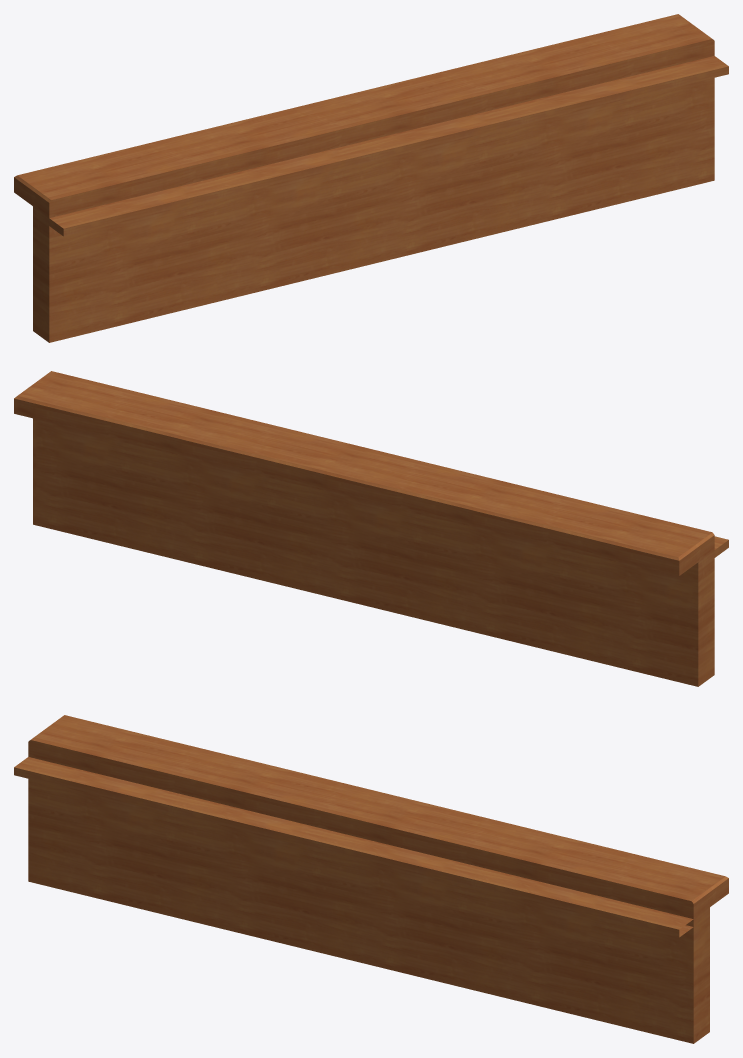
File: Balcao.FBX
The picture shows the model from 3 angles, top to bottom: view 1: azimuth 30°, elevation 25°; view 2: azimuth 150°, elevation 25°; view 3: azimuth 330°, elevation 25°; orthographic projection.
Parts seen in each view (by area): view 1: Balcao; view 2: Balcao; view 3: Balcao.
Part boxes in pixels (x1=…): Balcao: x1=14, y1=14, x2=728, y2=342; Balcao: x1=14, y1=371, x2=728, y2=686; Balcao: x1=14, y1=715, x2=728, y2=1043.
Bounding box in the file's own units: 490 × 100 × 63.25.
